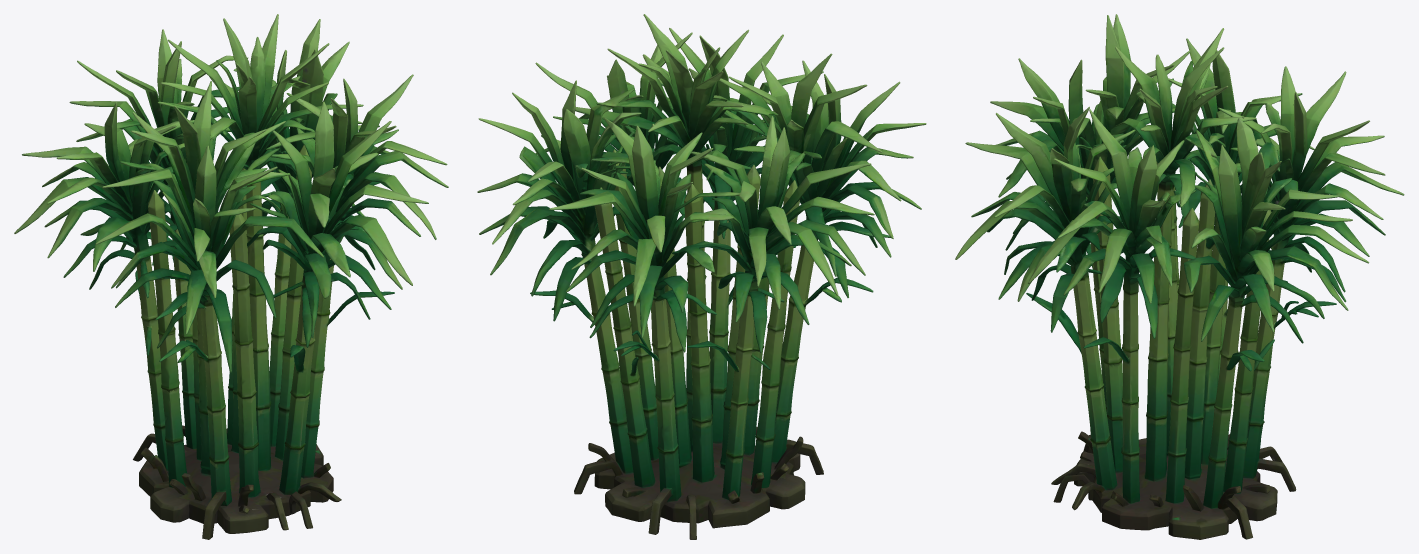
File: sugar_cane.glb
3 renders of one model, left to right at view 1: azimuth 30°, elevation 25°; view 2: azimuth 150°, elevation 25°; view 3: azimuth 270°, elevation 25°, orthographic.
Parts seen in each view (by area): view 1: Mesh::generatedModels/Evft2ugowXa8GJwo9Amw.gltf; view 2: Mesh::generatedModels/Evft2ugowXa8GJwo9Amw.gltf; view 3: Mesh::generatedModels/Evft2ugowXa8GJwo9Amw.gltf.
Part boxes in pixels (<box>): Mesh::generatedModels/Evft2ugowXa8GJwo9Amw.gltf: <box>14,14,448,539</box>; Mesh::generatedModels/Evft2ugowXa8GJwo9Amw.gltf: <box>477,14,926,539</box>; Mesh::generatedModels/Evft2ugowXa8GJwo9Amw.gltf: <box>955,14,1404,539</box>.
Size of the model in its own units: 0.8256 by 1 by 0.8987.
1 material, 1 textured.
